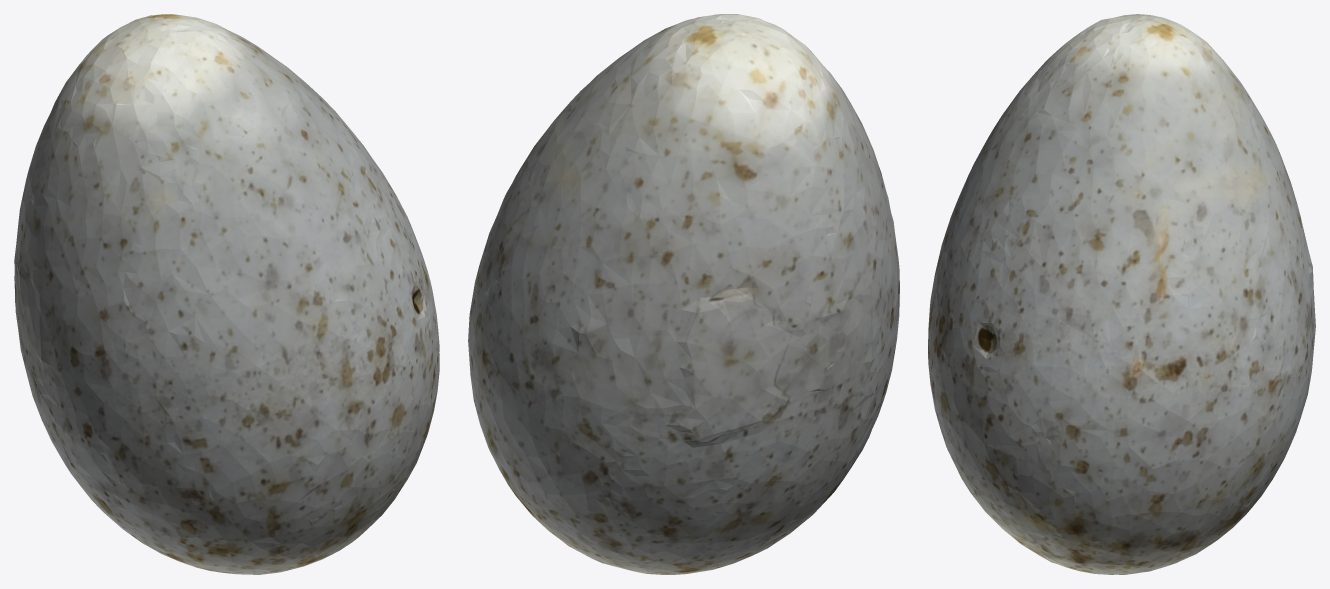
The model's file is egg.glb.
The picture shows the model from 3 angles, left to right: view 1: azimuth 30°, elevation 25°; view 2: azimuth 150°, elevation 25°; view 3: azimuth 270°, elevation 25°; orthographic projection. The views are drawn at different scales.
Bounding box in the file's own units: 0.1462 × 0.2065 × 0.1436.
2 materials, 2 textured.
